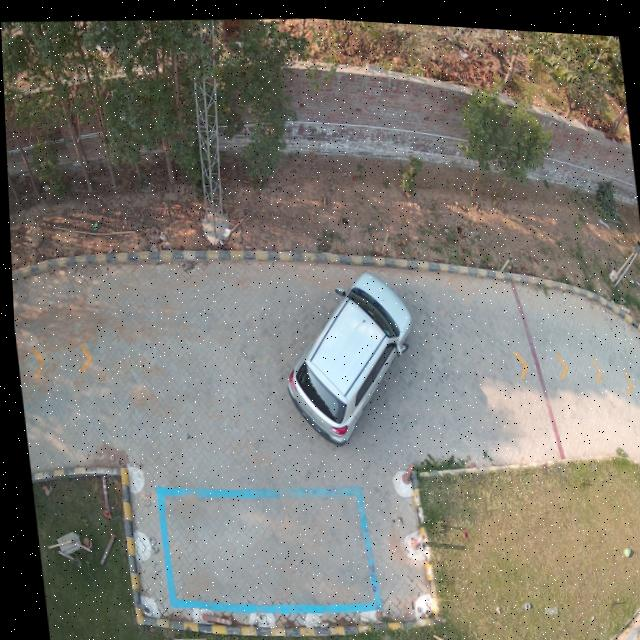car: (282, 265, 409, 443)
